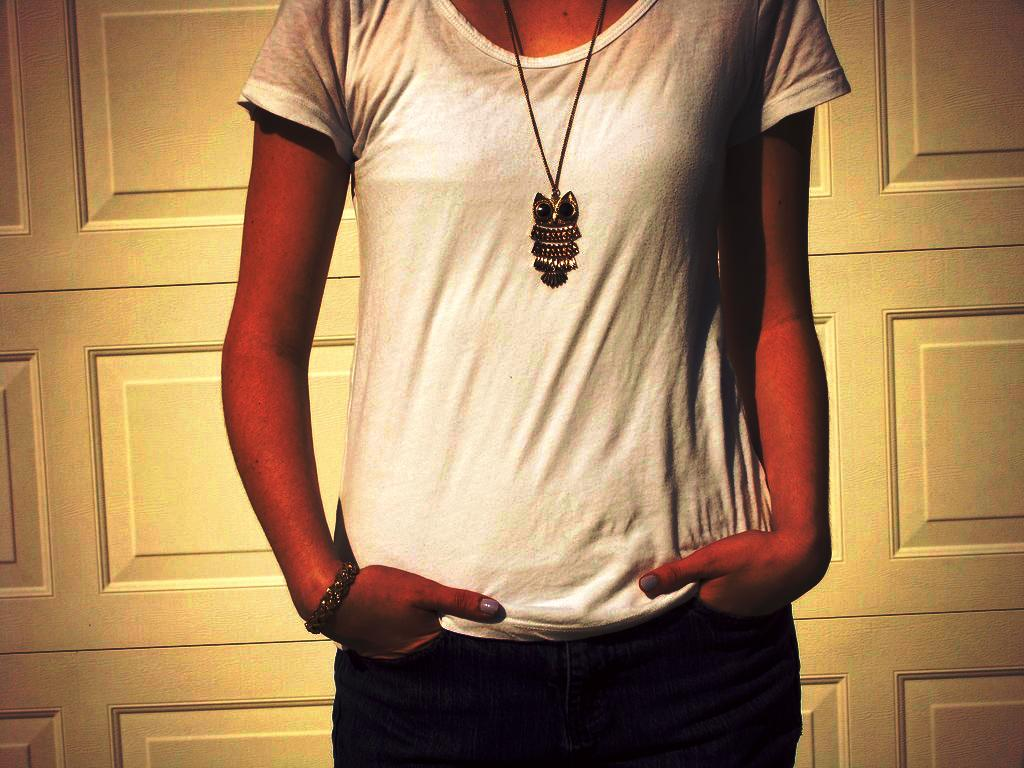Owl: (530, 190, 580, 286)
